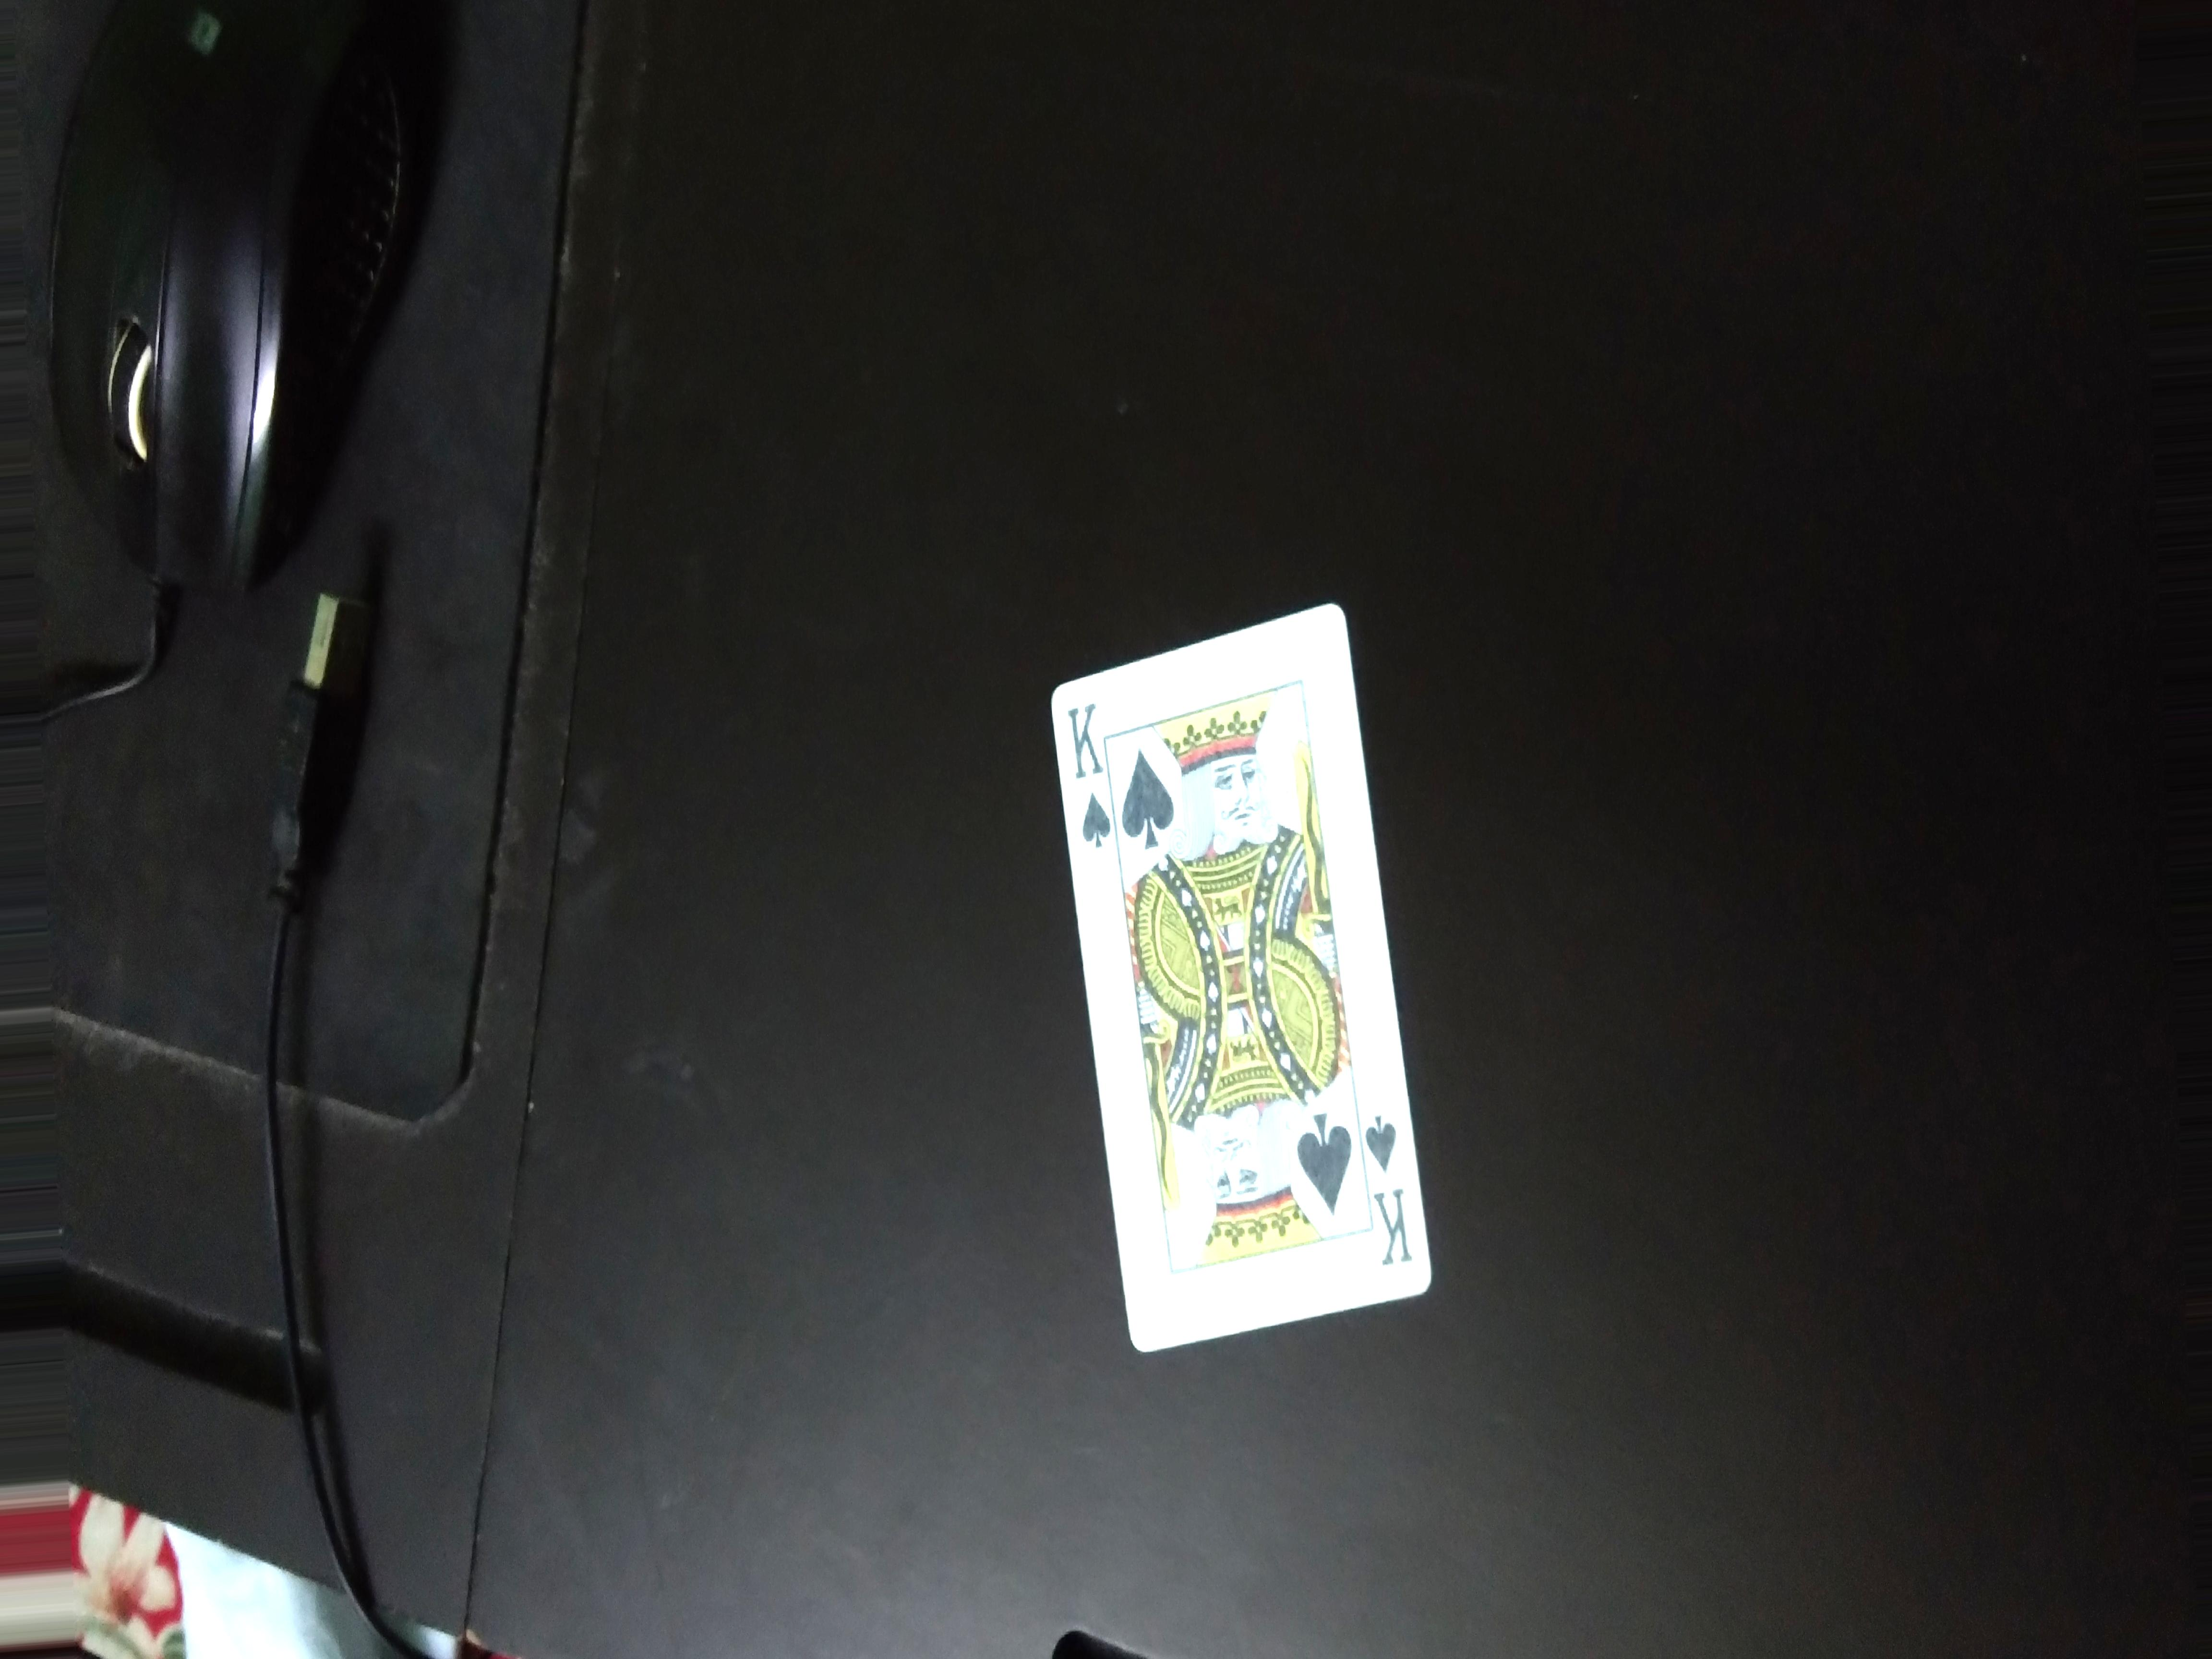KS: (1061, 699, 1118, 850)
